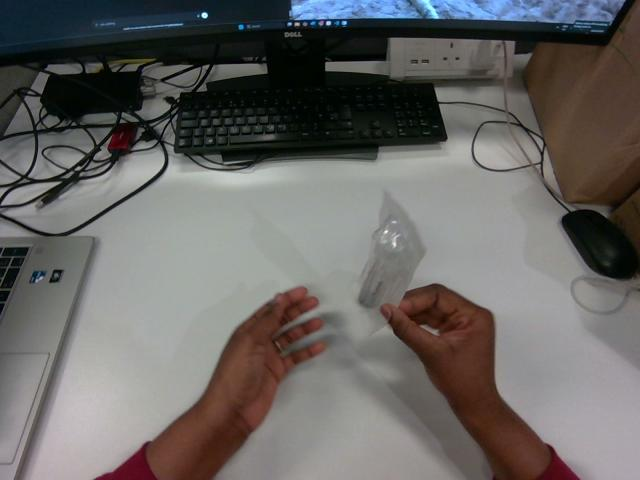syringe: (358, 192, 424, 307)
